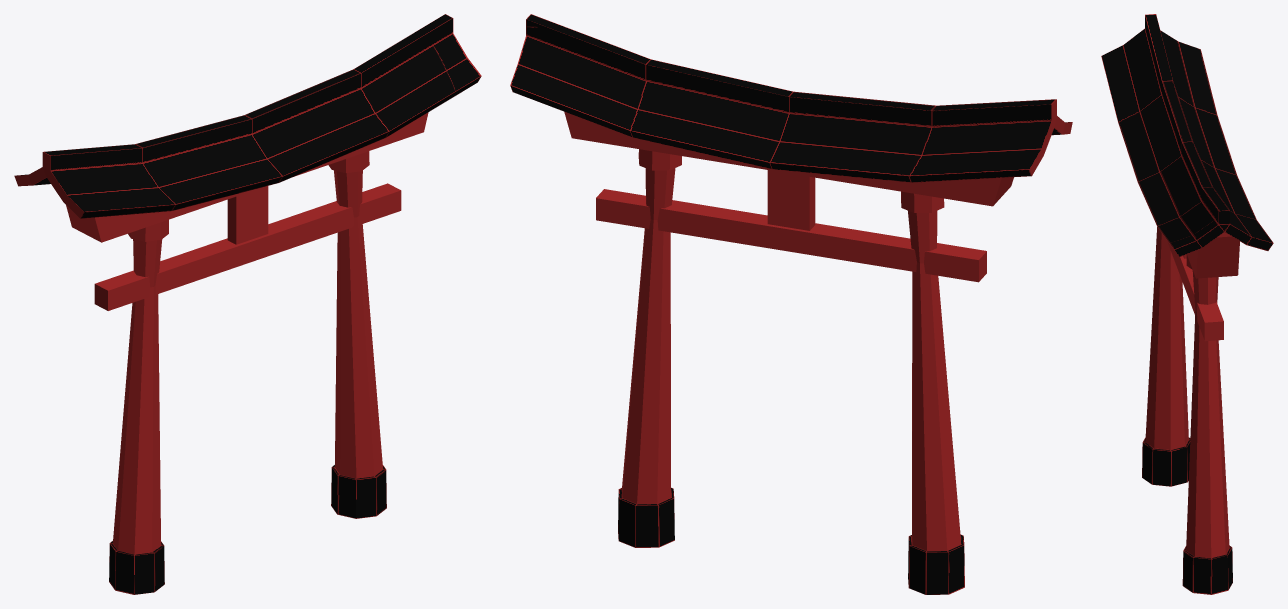
The model's file is toriigate.fbx.
3 renders of one model, left to right at view 1: azimuth 30°, elevation 25°; view 2: azimuth 150°, elevation 25°; view 3: azimuth 270°, elevation 25°, orthographic. The views are drawn at different scales.
Parts seen in each view (by area): view 1: ToriiGate; view 2: ToriiGate; view 3: ToriiGate.
Boxes of the visible parts, <box> form: ToriiGate: <box>14,14,481,594</box>; ToriiGate: <box>510,14,1072,594</box>; ToriiGate: <box>1101,14,1273,594</box>.
Size of the model in its own units: 144 by 140 by 52.36.
1 material, 1 textured.
